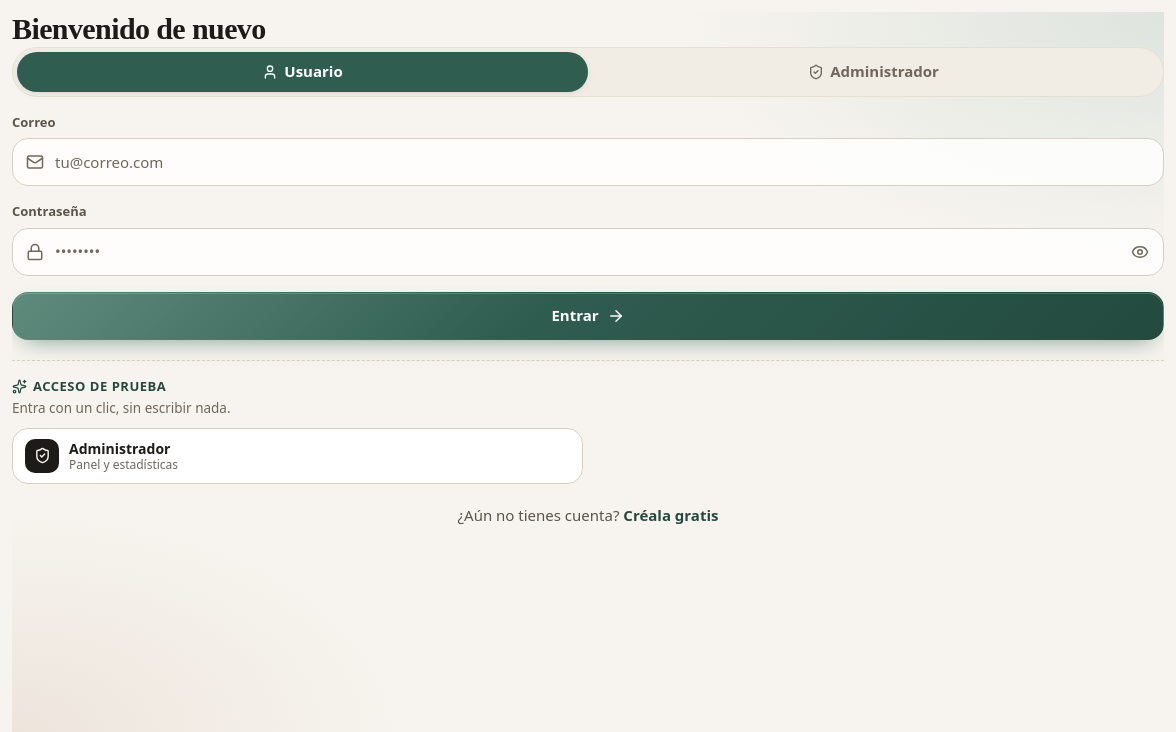
Test: Login page › signs in with a demo account in one click
What coordinates should you click on to do the following:
click the button with aria-label "administrador de prueba"
I would click on:
 (42, 456)
Its box is [12,428,583,484].
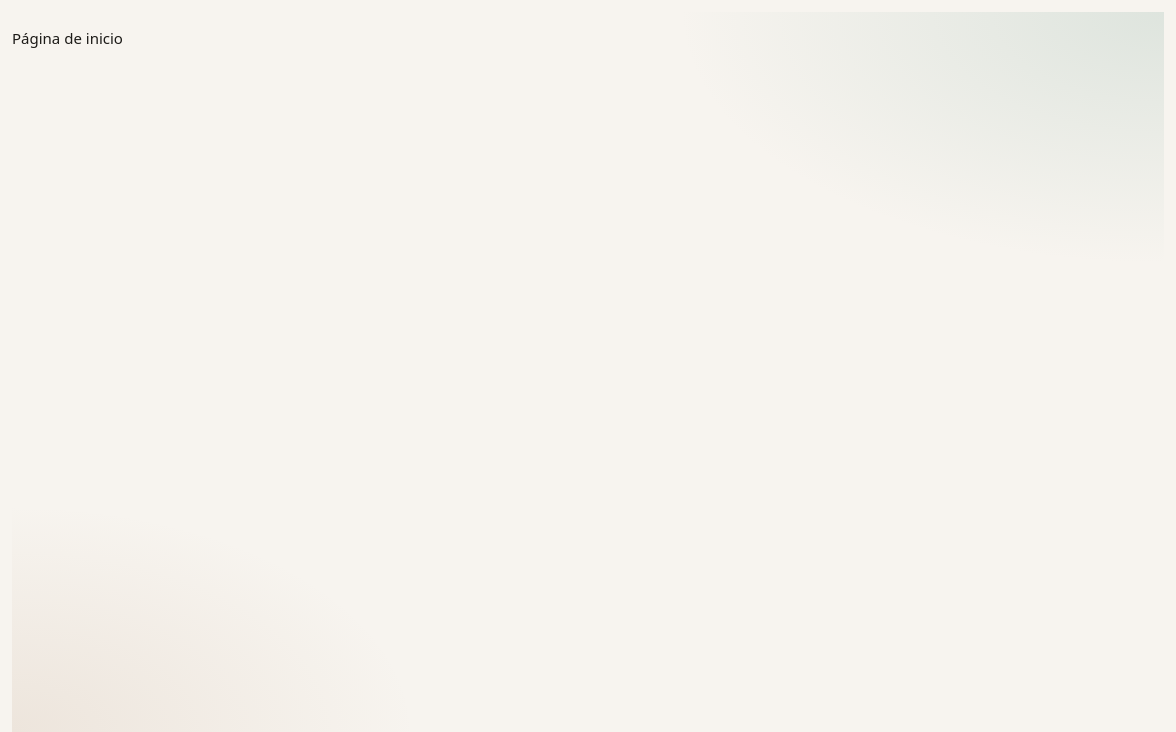
Expected: the text "Página de inicio" is shown, [12,28,123,48]
